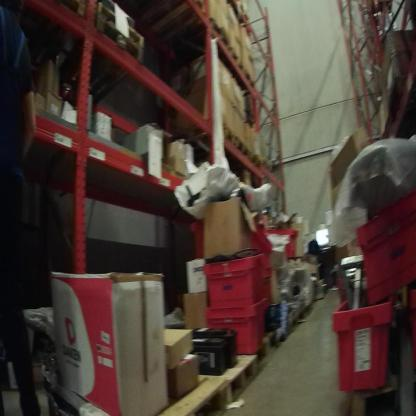pallet: (188, 344, 263, 403), (144, 372, 239, 414), (89, 15, 152, 75), (11, 350, 79, 388), (89, 2, 147, 40), (157, 122, 236, 149), (143, 2, 209, 32), (267, 316, 296, 353)
small_load_carrier: (326, 296, 397, 394), (360, 182, 413, 304), (200, 251, 270, 316), (190, 296, 268, 353), (249, 221, 294, 269)
